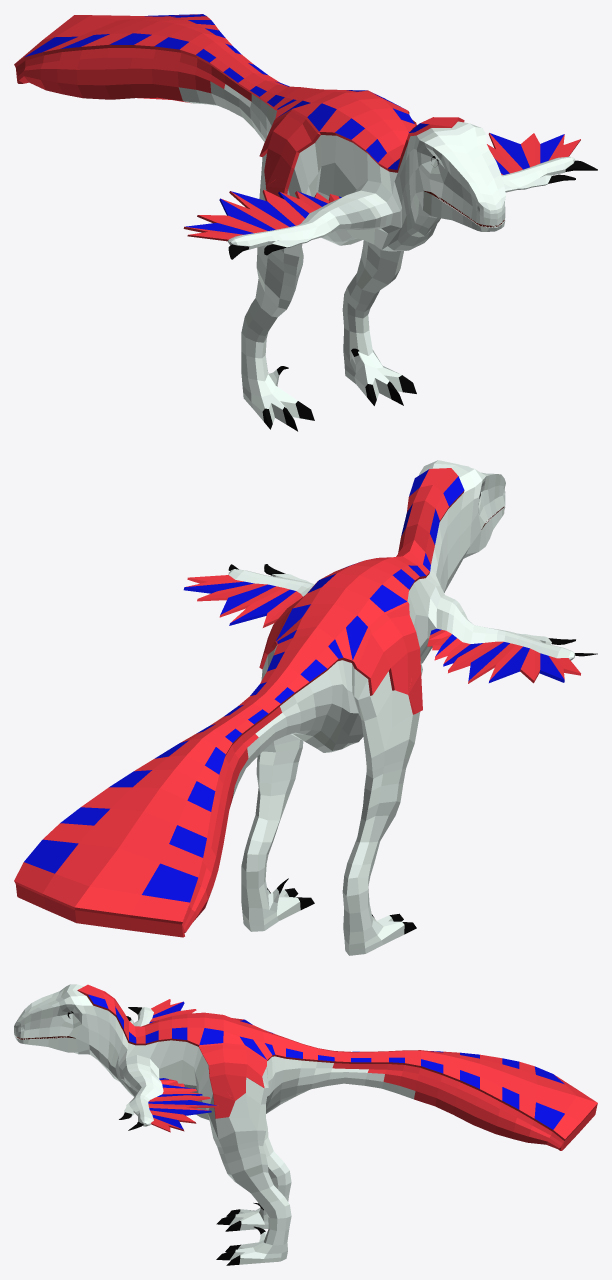
File: Utahraptor_20252_autosave.fbx
3 renders of one model, top to bottom at view 1: azimuth 30°, elevation 25°; view 2: azimuth 150°, elevation 25°; view 3: azimuth 270°, elevation 25°, orthographic. The views are drawn at different scales.
Parts seen in each view (by area): view 1: UtahraptorBody; view 2: UtahraptorBody; view 3: UtahraptorBody.
Boxes of the visible parts, x1,y1,x2,y2 form: UtahraptorBody: [14, 14, 597, 431]; UtahraptorBody: [14, 460, 597, 955]; UtahraptorBody: [14, 984, 597, 1265].
Size of the model in its own units: 154 by 287 by 137.
